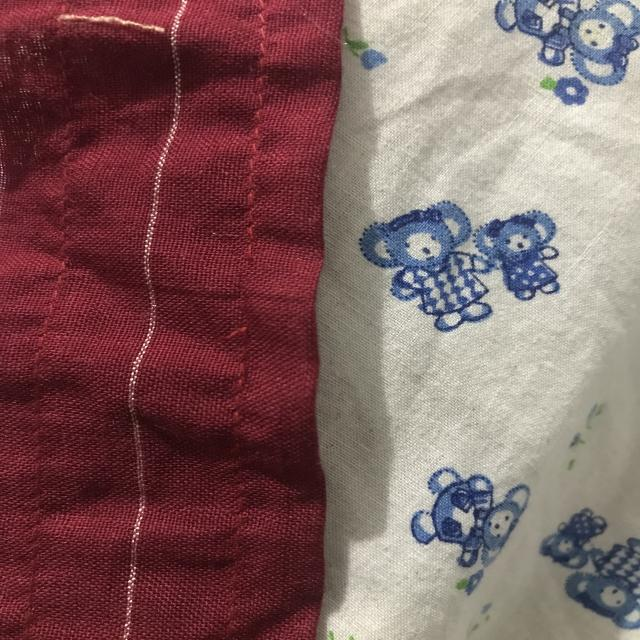broken: (211, 246, 277, 355)
good: (234, 115, 265, 205)
